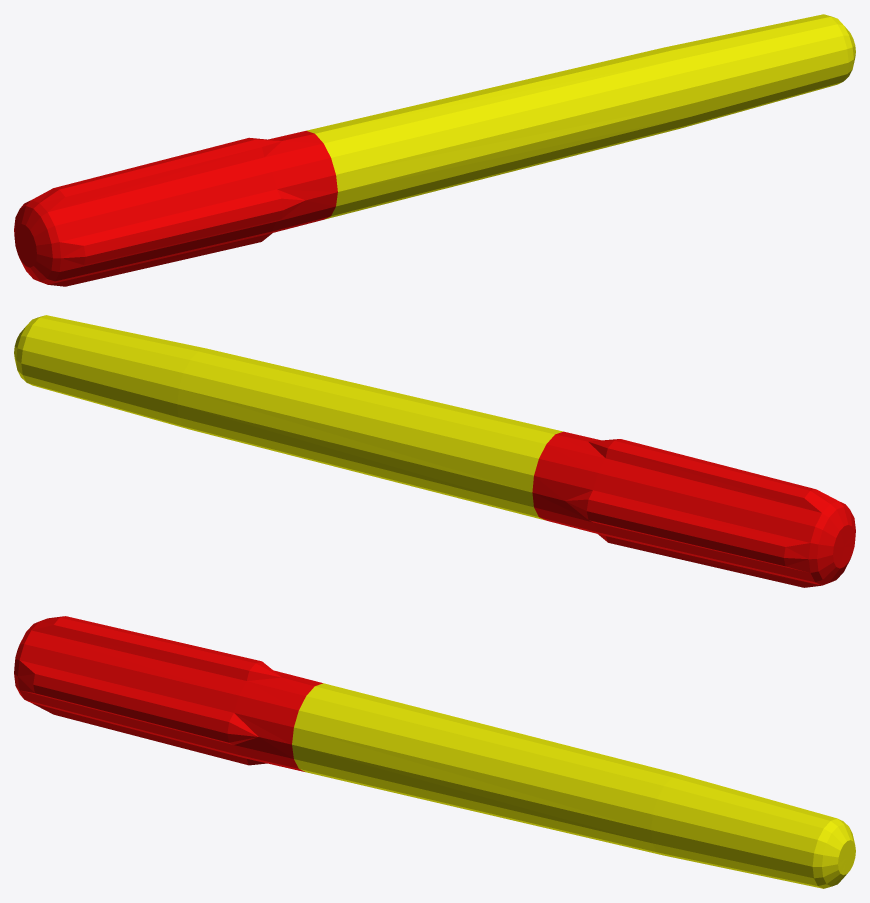
The model's file is M_ArsPen.fbx.
3 views of the same model, one above another, from view 1: azimuth 30°, elevation 25°; view 2: azimuth 150°, elevation 25°; view 3: azimuth 330°, elevation 25° (orthographic).
Parts seen in each view (by area): view 1: pCylinder2; view 2: pCylinder2; view 3: pCylinder2.
Part boxes in pixels (x1,y1,x2,y2): pCylinder2: (14,14,855,286); pCylinder2: (14,315,855,587); pCylinder2: (14,616,855,888).
Bounding box in the file's own units: 17.2 × 2.01 × 2.03.
